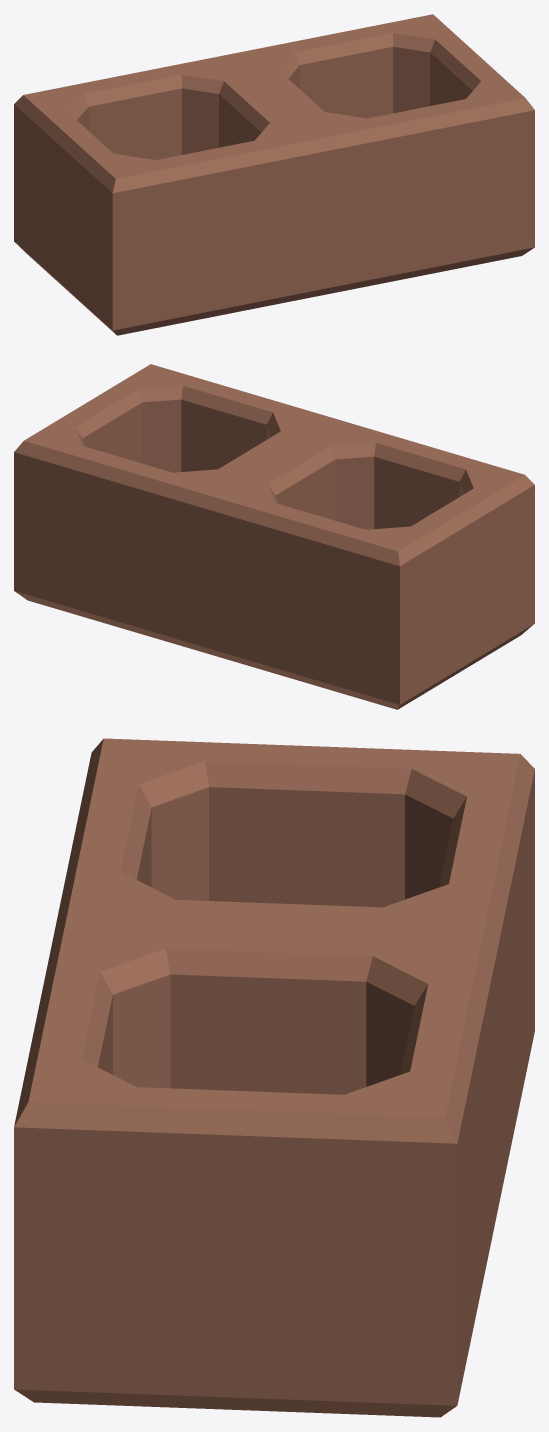
The model's file is brick_a004.glb.
3 views of the same model, one above another, from view 1: azimuth 30°, elevation 25°; view 2: azimuth 150°, elevation 25°; view 3: azimuth 270°, elevation 25° (orthographic). The views are drawn at different scales.
Visible parts, largest first — view 1: brick_a004; view 2: brick_a004; view 3: brick_a004.
Part boxes in pixels (left/top/right/bottom): brick_a004: left=14, top=14, right=534, bottom=335; brick_a004: left=14, top=364, right=534, bottom=709; brick_a004: left=14, top=738, right=534, bottom=1417.
Bounding box in the file's own units: 0.4159 × 0.1499 × 0.2341.
1 material, 1 textured.
